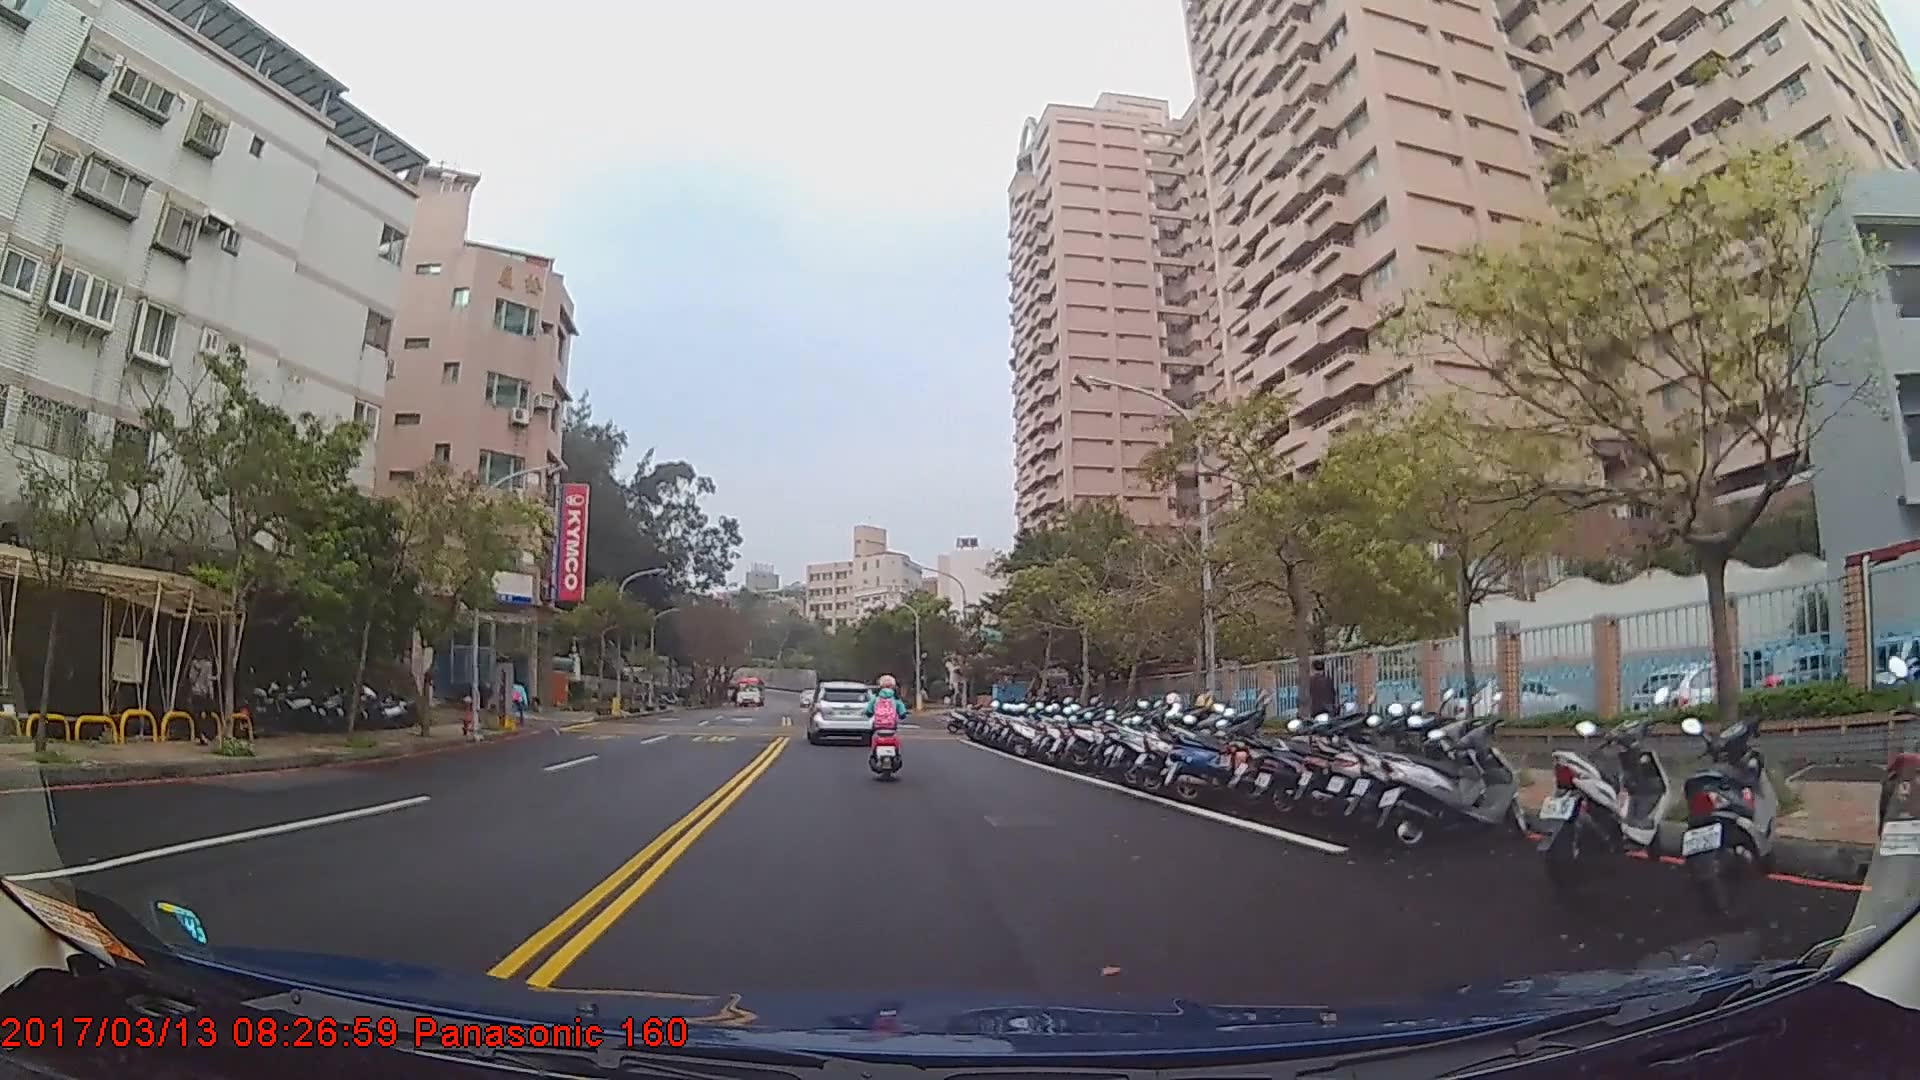pedestrian: (1298, 661, 1342, 759), (185, 643, 214, 746)
rider: (865, 675, 910, 784)
vehicle: (808, 681, 876, 745), (731, 674, 765, 708)
